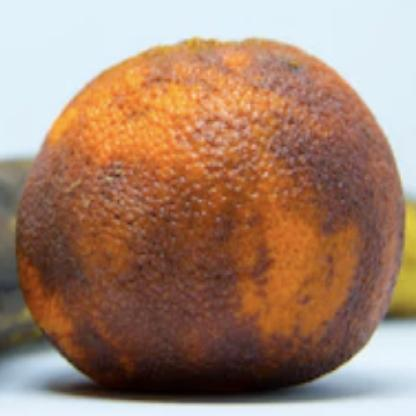rotten: (21, 40, 406, 392)
